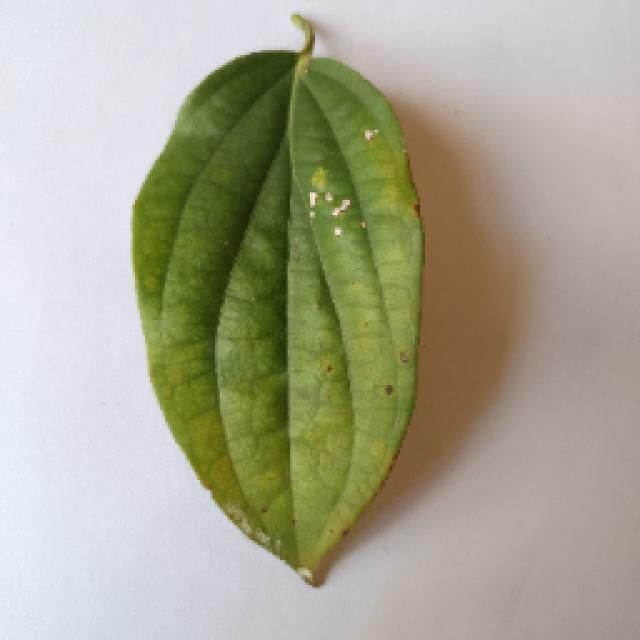pollu-disease: (125, 20, 423, 582)
